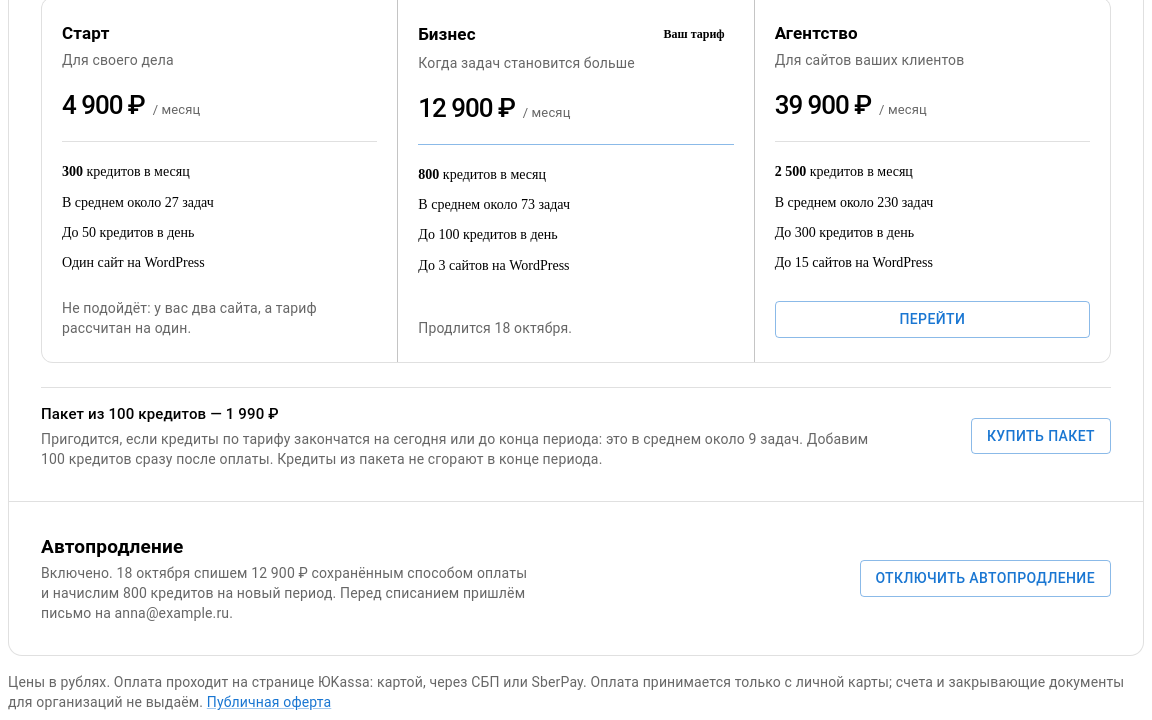
switching auto-renewal off › asks first, with the numbers of the customer, and «Оставить включённым» changes nothing
(page scrolled)
Click the button "Отключить автопродление": (985, 579) [860,560,1111,597]
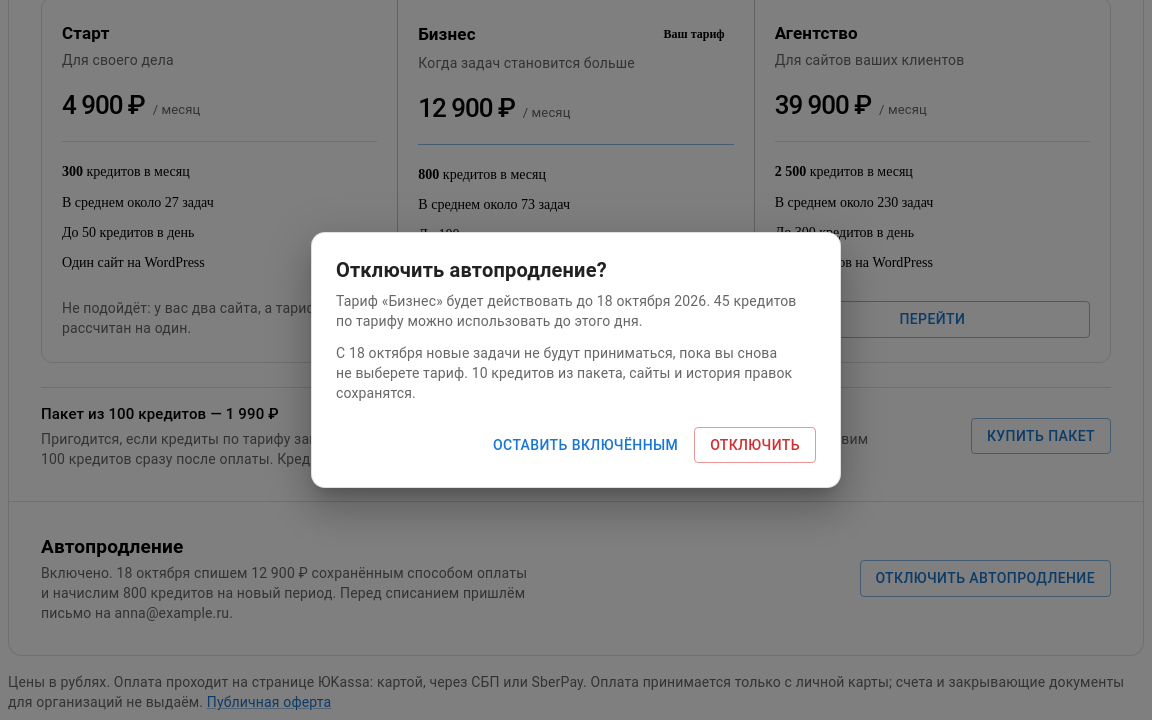
Expected: the dialog shows "Тариф «Бизнес» будет действовать до 18 октября 2026. 45 кредитов по тарифу можно использовать до этого дня.", [336,293,796,329]
Expected: the dialog shows "С 18 октября новые задачи не будут приниматься, пока вы снова не выберете тариф. 10 кредитов из пакета, сайты и история правок сохранятся.", [336,345,792,401]
Click the button "Оставить включённым": (586, 445) [485,427,686,463]
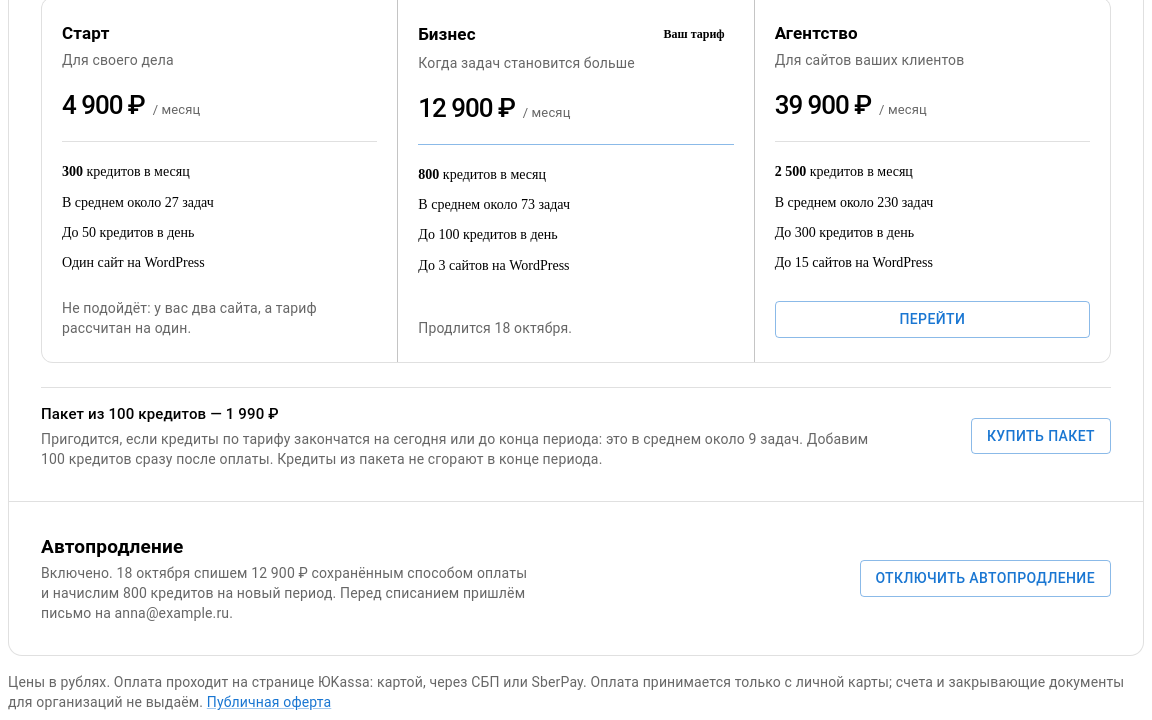
Expected: the dialog is gone
